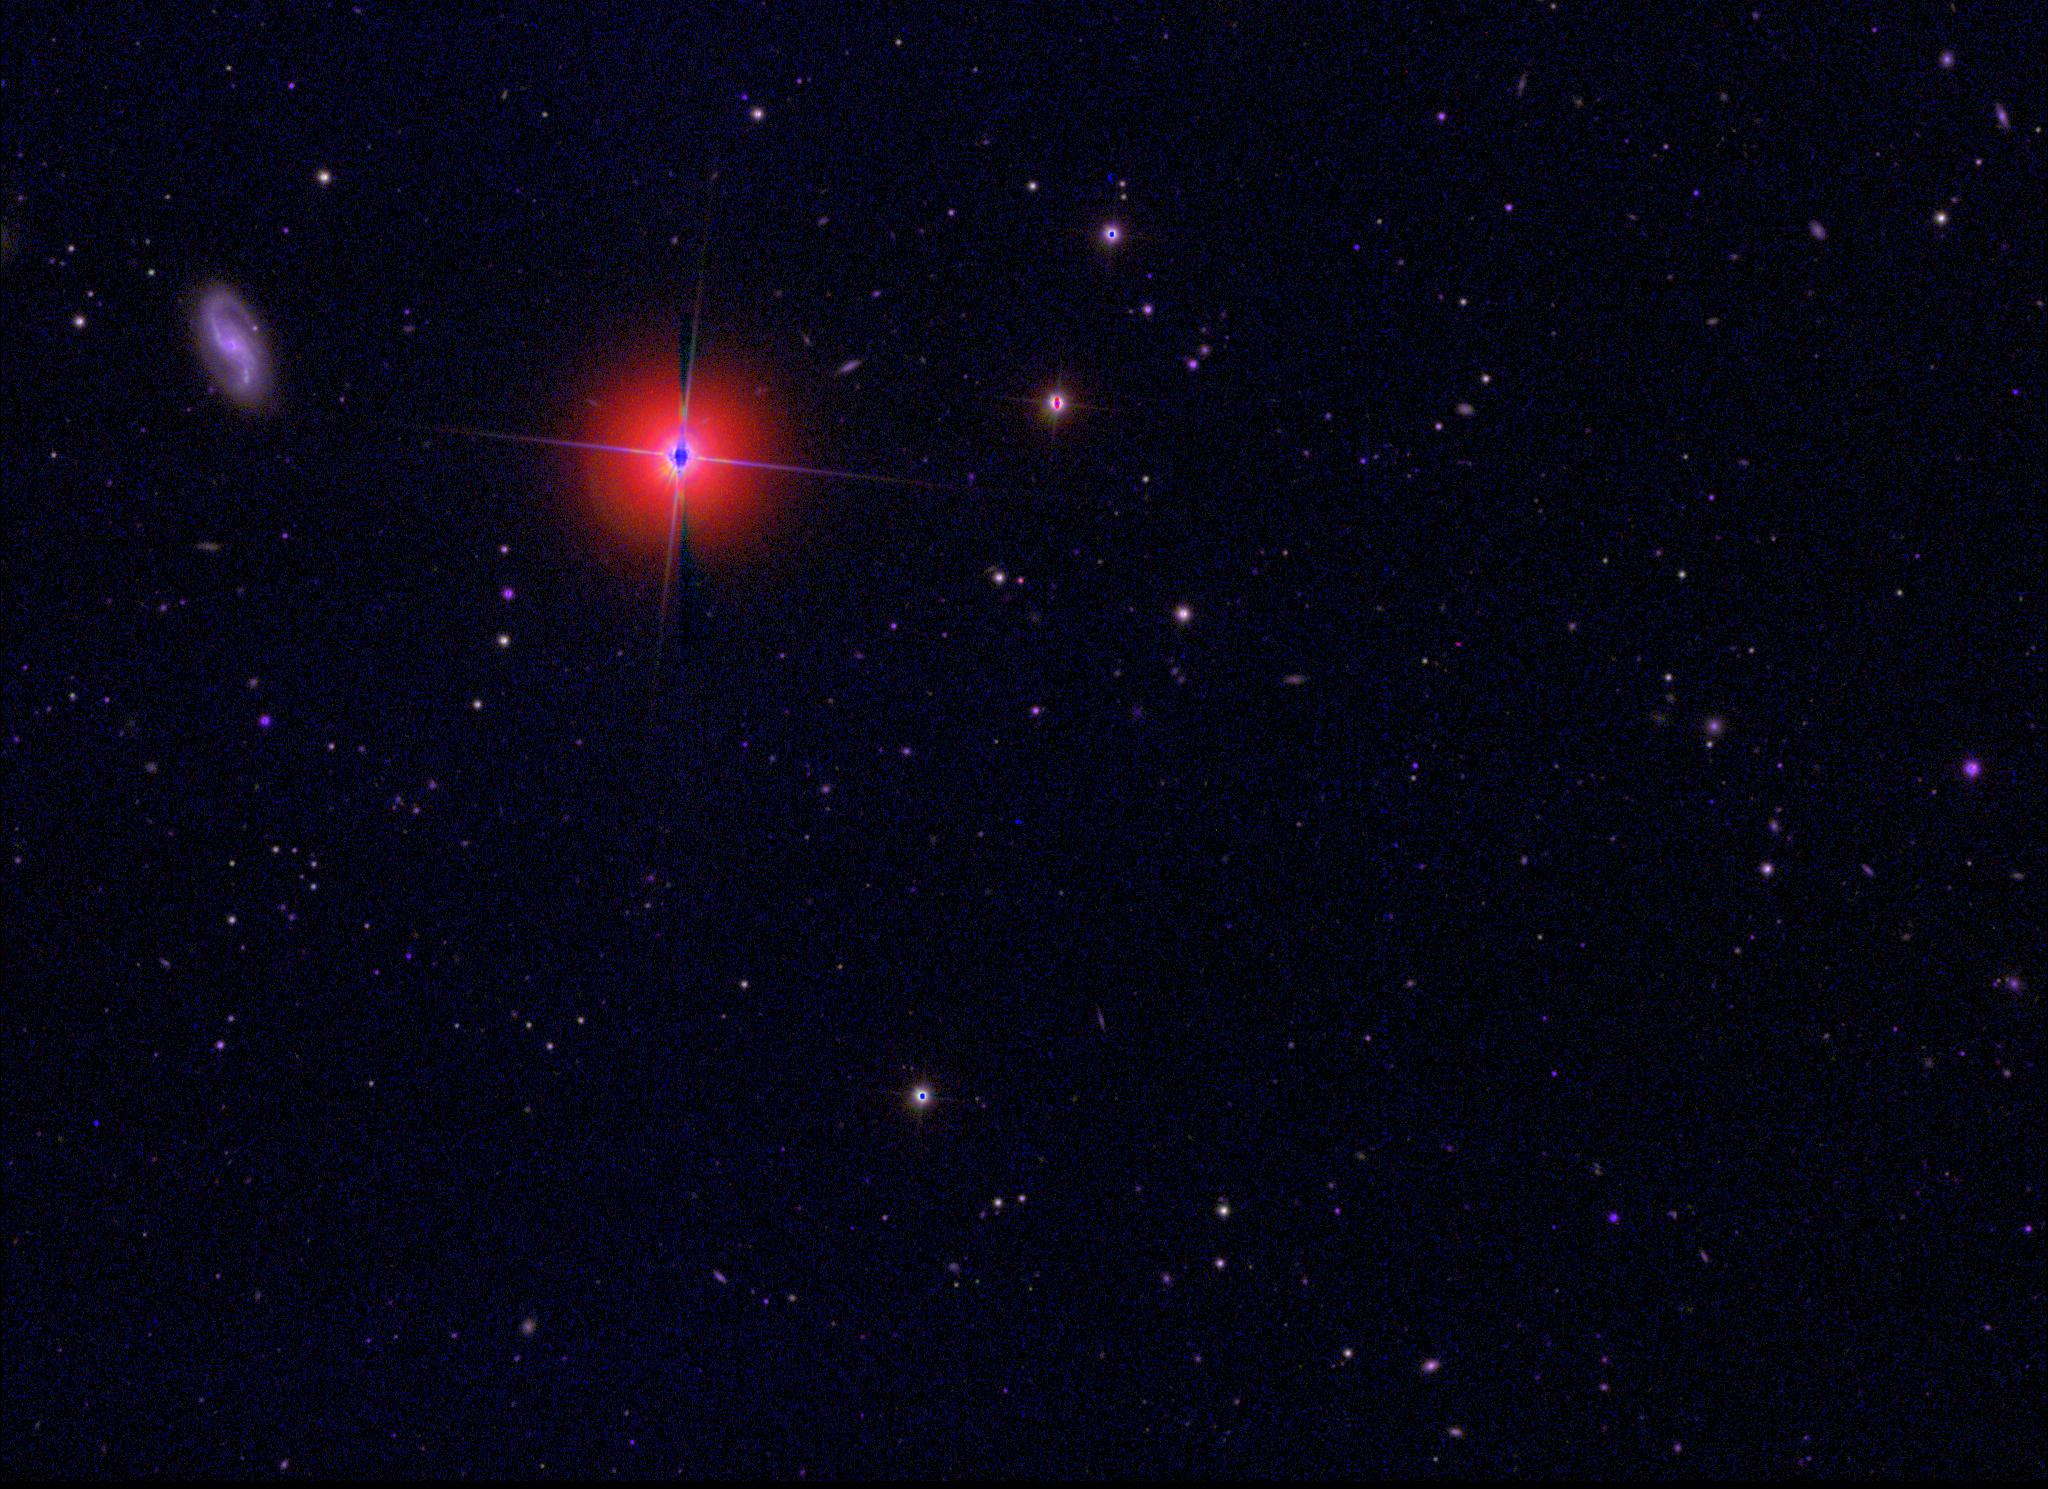L: (92, 1114, 107, 1128)
